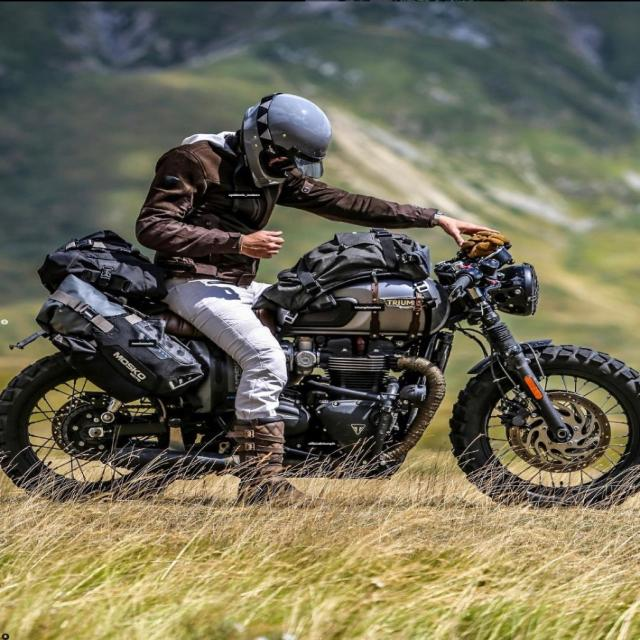helmet: (239, 88, 337, 194)
